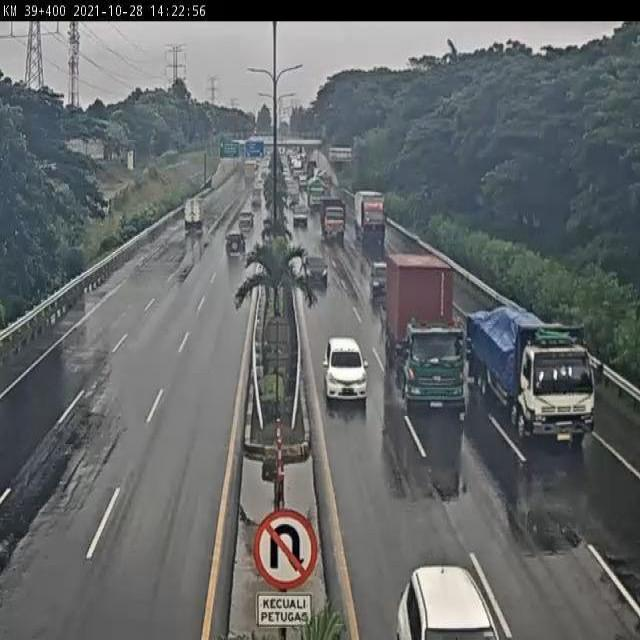car: (303, 255, 328, 293)
truck-l-: (468, 303, 603, 447), (356, 189, 388, 244)
truck-m-: (186, 196, 203, 231)
truck-s-: (320, 200, 346, 244)
truck-xl-: (385, 255, 468, 424)
